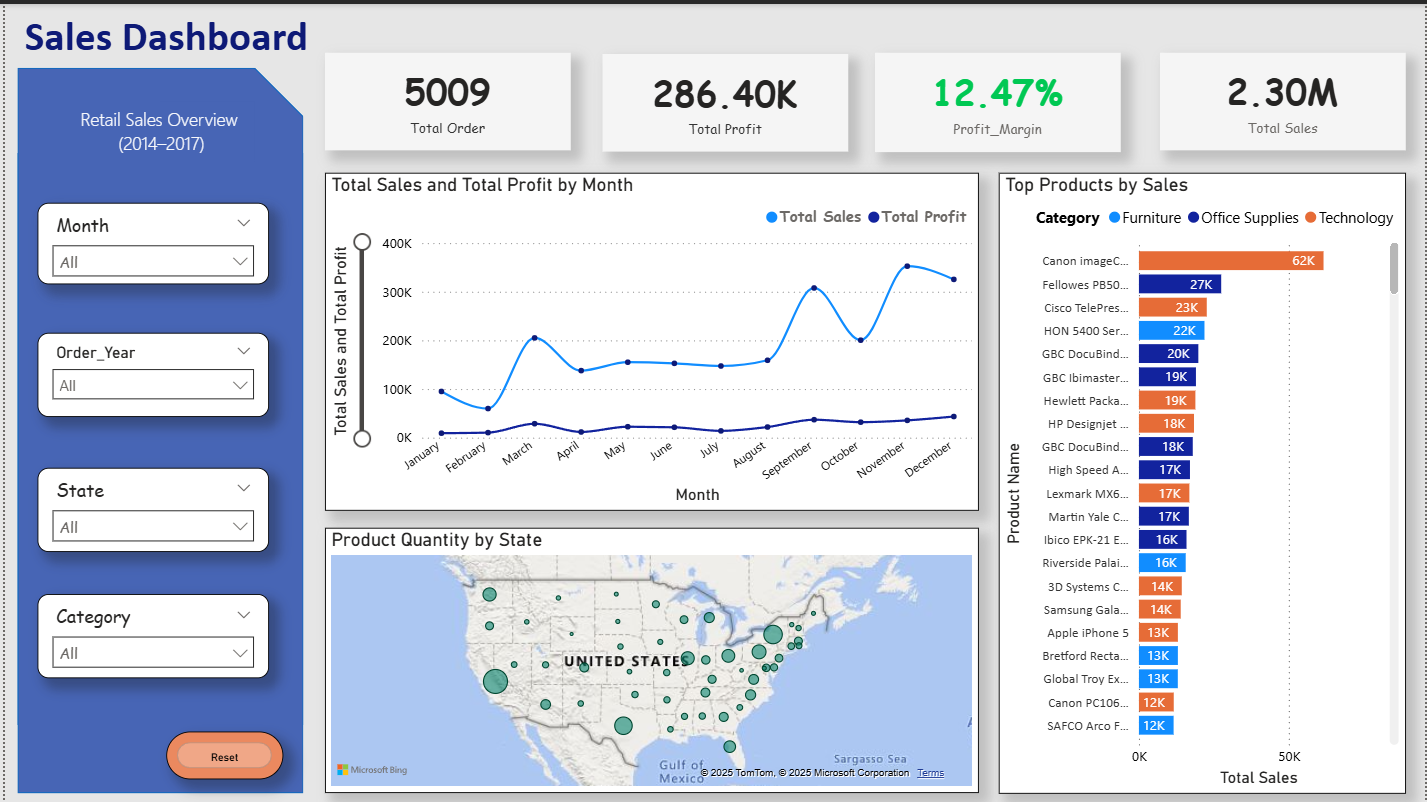

The page's visual inventory and layout, read from the dashboard file:
{"tool":"powerbi","page":{"name":"Page 1","canvas":[1280,720],"ordinal":0},"visuals":[{"type":"shape","box":[10.7,57.8,257.9,654.2],"z":0},{"type":"card","fields":{"Values":["Sum(superstore sales_data.Sales)"]},"box":[1041.2,43.5,221.4,88.3],"z":1000},{"type":"card","fields":{"Values":["sales_data.Profit_Margin"]},"box":[784.9,43.5,221.4,89.6],"z":2000},{"type":"card","fields":{"Values":["Count(superstore sales_data.Order_ID)"]},"box":[288.6,43.5,221.4,88.3],"z":3000},{"type":"card","fields":{"Values":["Sum(superstore sales_data.Profit)"]},"box":[538.6,44.8,221.4,88.3],"z":4000},{"type":"textbox","box":[11.2,1.2,268.7,56],"z":5000},{"type":"lineChart","title":"Total Sales and Total Profit by Month","fields":{"Y":["Sum(sales_data.Sales)","Sum(sales_data.Profit)"],"Category":["sales_data.Order_Date.Variation.Date Hierarchy.Month"]},"box":[288.6,151.8,589.6,304.8],"z":6000},{"type":"map","title":"Product Quantity by State ","fields":{"Size":["Sum(sales_data.Quantity)"],"Category":["sales_data.State"]},"box":[288.6,472.7,589.6,238.8],"z":7000},{"type":"barChart","title":"Top Products by Sales","fields":{"Category":["sales_data.Product_Name"],"Y":["Sum(sales_data.Sales)"],"Series":["sales_data.Category"]},"box":[895.7,151.8,367,559.8],"z":8000},{"type":"slicer","fields":{"Values":["sales_data.Order_Month_Number"]},"box":[29.9,179.1,209,73.4],"z":9000},{"type":"slicer","fields":{"Values":["sales_data.Order_Year"]},"box":[29.9,296.1,209,75.9],"z":10000},{"type":"slicer","fields":{"Values":["sales_data.State"]},"box":[29.9,418,209,75.9],"z":11000},{"type":"slicer","fields":{"Values":["sales_data.Sub_Category"]},"box":[29.9,532.4,209,75.9],"z":12000},{"type":"textbox","box":[41.8,88.1,185.2,72.3],"z":13000},{"type":"actionButton","title":"Reset","box":[145.5,655.6,105.7,43.5],"z":14000}]}

Visuals, with their boxes in screenshot pixels (x1, y1, x2, y2), scaled from the page's 1280x720 canvas onto the 1427x802 screenshot:
shape: x1=12, y1=64, x2=299, y2=793
card - Sum(superstore sales_data.Sales): x1=1161, y1=48, x2=1408, y2=147
card - sales_data.Profit_Margin: x1=875, y1=48, x2=1122, y2=148
card - Count(superstore sales_data.Order_ID): x1=322, y1=48, x2=569, y2=147
card - Sum(superstore sales_data.Profit): x1=600, y1=50, x2=847, y2=148
textbox: x1=12, y1=1, x2=312, y2=64
"Total Sales and Total Profit by Month" lineChart: x1=322, y1=169, x2=979, y2=509
"Product Quantity by State " map: x1=322, y1=527, x2=979, y2=793
"Top Products by Sales" barChart: x1=999, y1=169, x2=1408, y2=793
slicer - sales_data.Order_Month_Number: x1=33, y1=199, x2=266, y2=281
slicer - sales_data.Order_Year: x1=33, y1=330, x2=266, y2=414
slicer - sales_data.State: x1=33, y1=466, x2=266, y2=550
slicer - sales_data.Sub_Category: x1=33, y1=593, x2=266, y2=678
textbox: x1=47, y1=98, x2=253, y2=179
"Reset" actionButton: x1=162, y1=730, x2=280, y2=779
